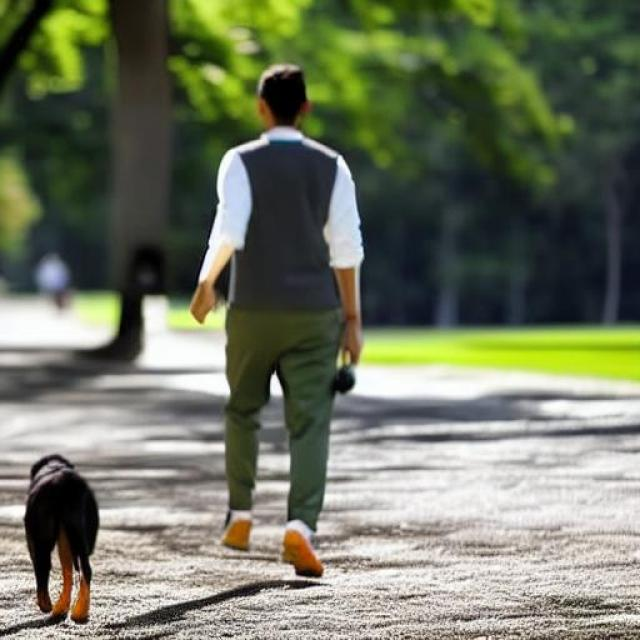Unleashed_Dog: (23, 294, 338, 624)
